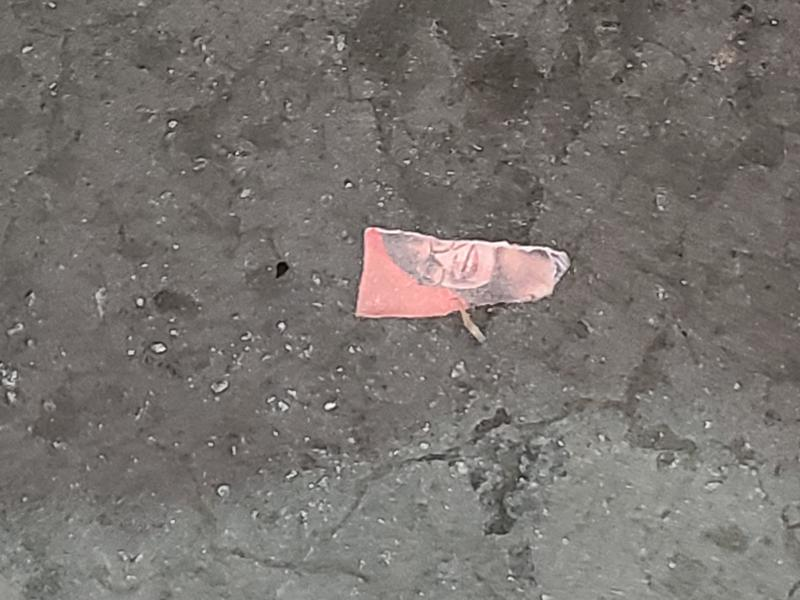papel: (354, 227, 571, 320)
